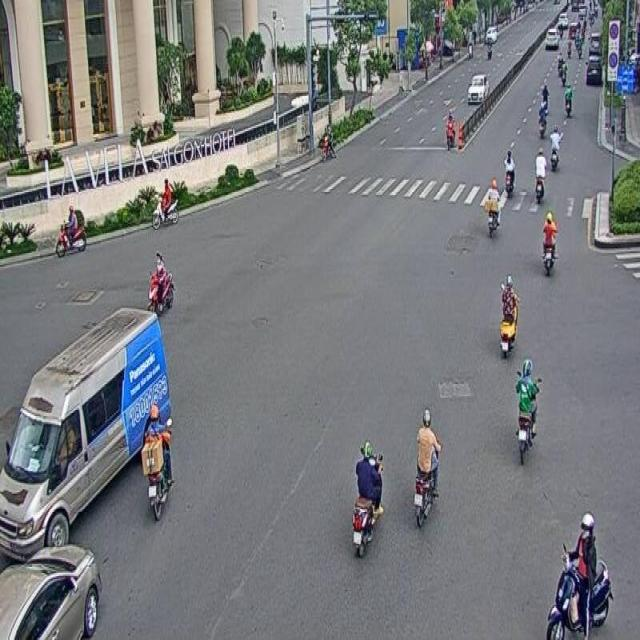motorcycle: (546, 506, 612, 640), (140, 400, 174, 520), (354, 437, 383, 550), (513, 357, 541, 463), (414, 410, 441, 518), (498, 268, 518, 358), (149, 251, 174, 320), (57, 202, 86, 255), (152, 176, 177, 232), (540, 209, 556, 277)
truck: (0, 297, 170, 559)
